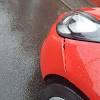front-bumper-dent: (35, 22, 68, 90)
